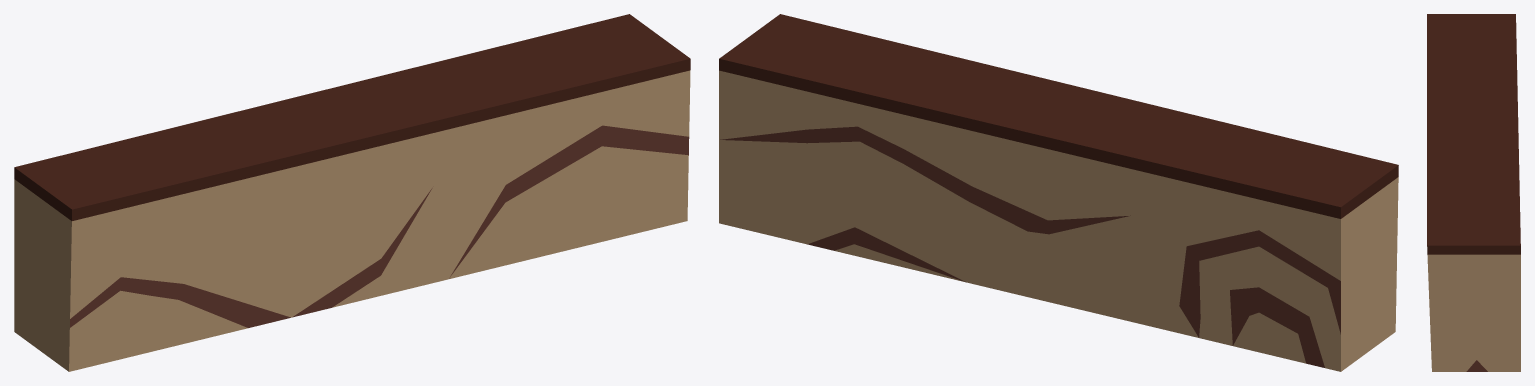
The model's file is CHooped wood.fbx.
3 renders of one model, left to right at view 1: azimuth 30°, elevation 25°; view 2: azimuth 150°, elevation 25°; view 3: azimuth 270°, elevation 25°, orthographic. The views are drawn at different scales.
Parts seen in each view (by area): view 1: pCube1; view 2: pCube1; view 3: pCube1.
Boxes of the visible parts, x1,y1,x2,y2 form: pCube1: (14,14,690,371); pCube1: (719,14,1398,371); pCube1: (1427,14,1520,371).
Size of the model in its own units: 2.75 by 0.7 by 0.4707.
